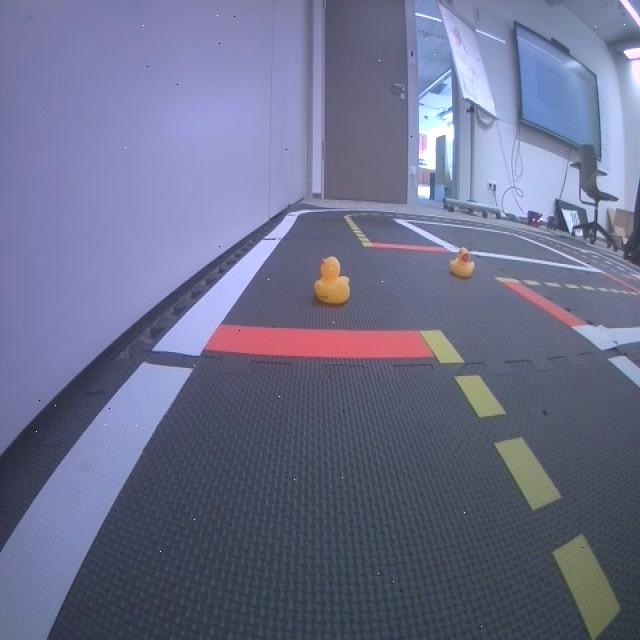duckie: (314, 254, 351, 304), (448, 247, 475, 278)
park: (580, 250, 640, 278)
